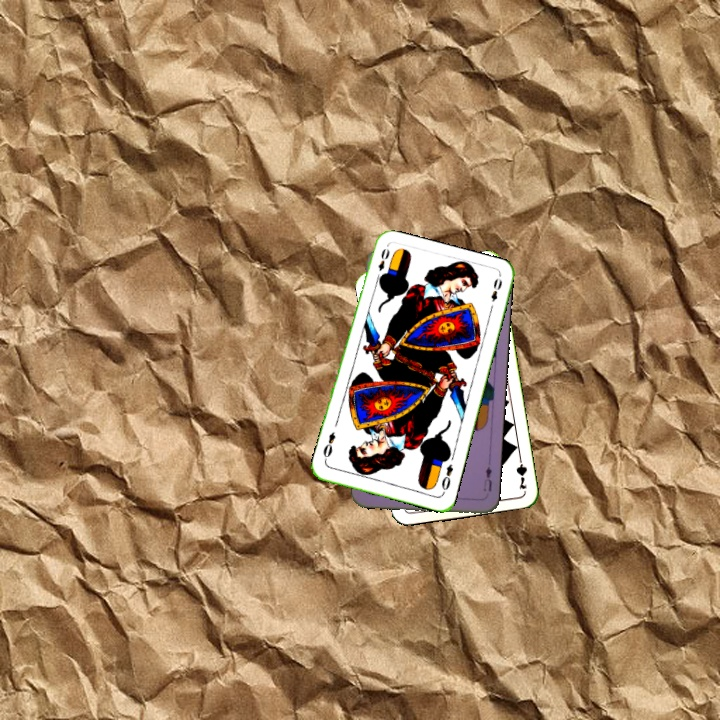EO: (437, 460, 456, 496), (374, 244, 392, 273)
EU: (479, 462, 494, 494)
G7: (512, 451, 530, 492)
